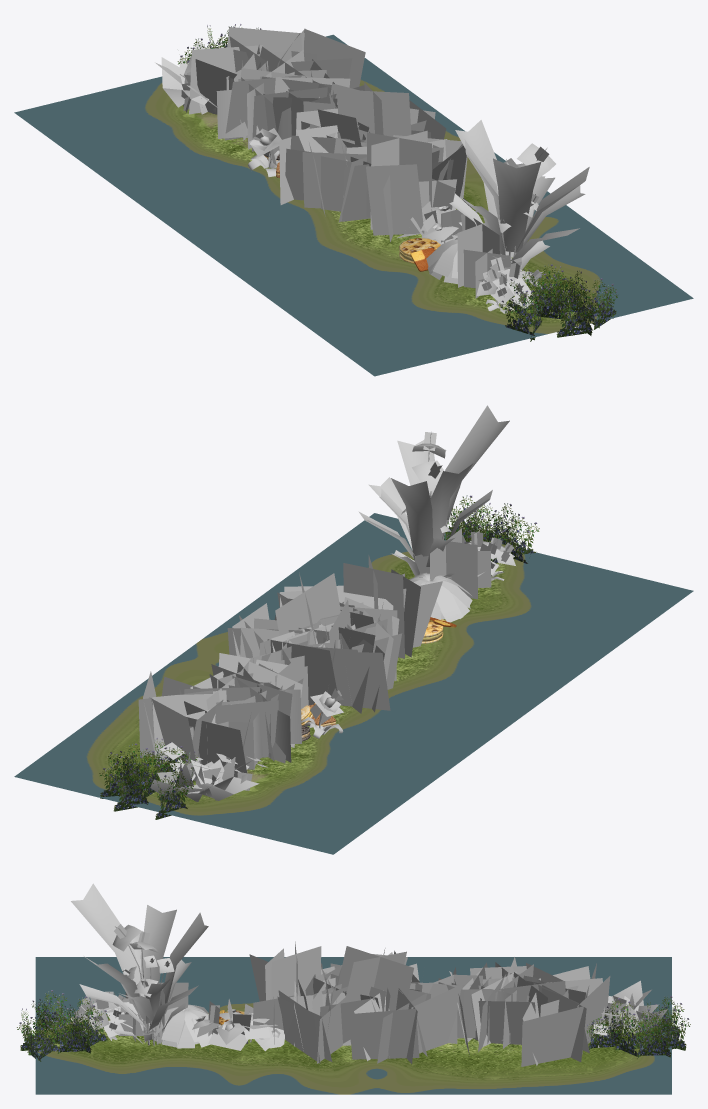
Rendered from Sc08_road_a.fbx.
The picture shows the model from 3 angles, top to bottom: view 1: azimuth 30°, elevation 25°; view 2: azimuth 150°, elevation 25°; view 3: azimuth 270°, elevation 25°; orthographic projection. The views are drawn at different scales.
Parts seen in each view (by area): view 1: rd_a, bush_a, h04_a, h02_a, Crackers_a; view 2: rd_a, bush_a, h04_a, h02_a, Crackers_a; view 3: rd_a, bush_a, h02_a, h04_a.
Boxes of the visible parts, x1,y1,x2,y2 form: rd_a: [14, 34, 693, 376]; bush_a: [177, 24, 617, 341]; h04_a: [155, 40, 521, 298]; h02_a: [248, 120, 589, 313]; Crackers_a: [263, 151, 440, 271]; rd_a: [14, 513, 693, 854]; bush_a: [99, 495, 539, 819]; h04_a: [150, 528, 491, 801]; h02_a: [301, 405, 515, 738]; Crackers_a: [301, 617, 456, 741]; rd_a: [35, 957, 671, 1094]; bush_a: [17, 950, 690, 1066]; h02_a: [69, 883, 456, 1051]; h04_a: [118, 941, 667, 1048].
Bounding box in the file's own units: 307 × 160 × 641.
